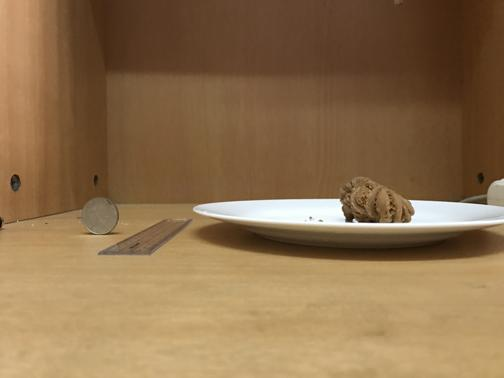coin: (80, 198, 118, 235)
fired_dough_twist: (335, 175, 415, 221)
